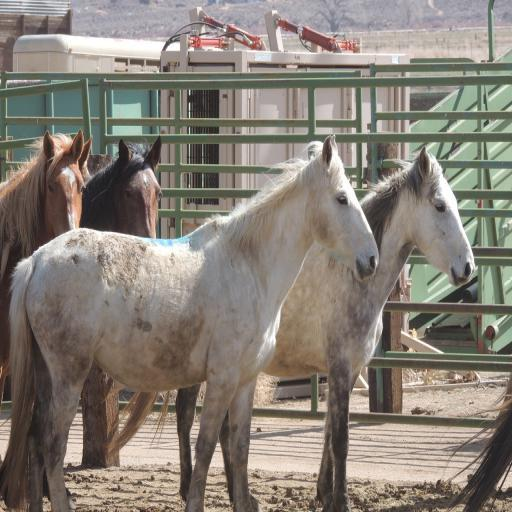Horse: (0, 130, 380, 512), (102, 143, 474, 512), (0, 130, 86, 409), (80, 134, 163, 240)
